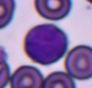L: (24, 23, 68, 65)
